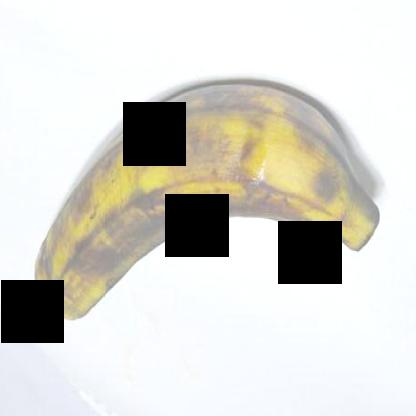overripe: (20, 74, 384, 328)
